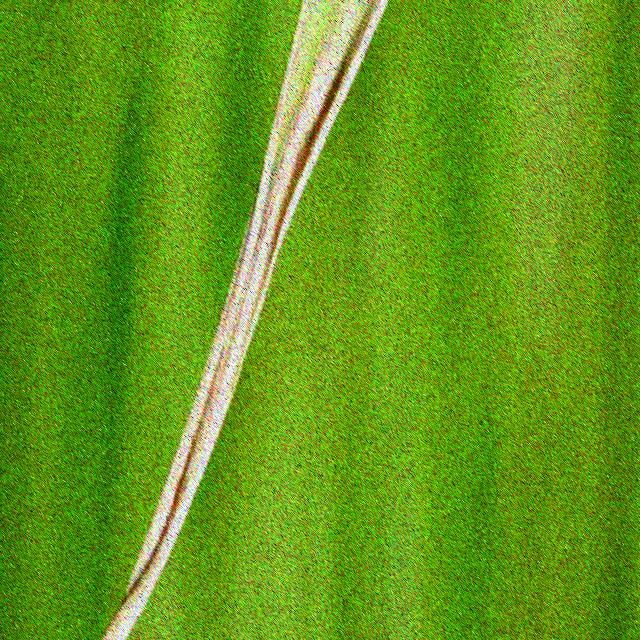BLB: (103, 0, 387, 640)
